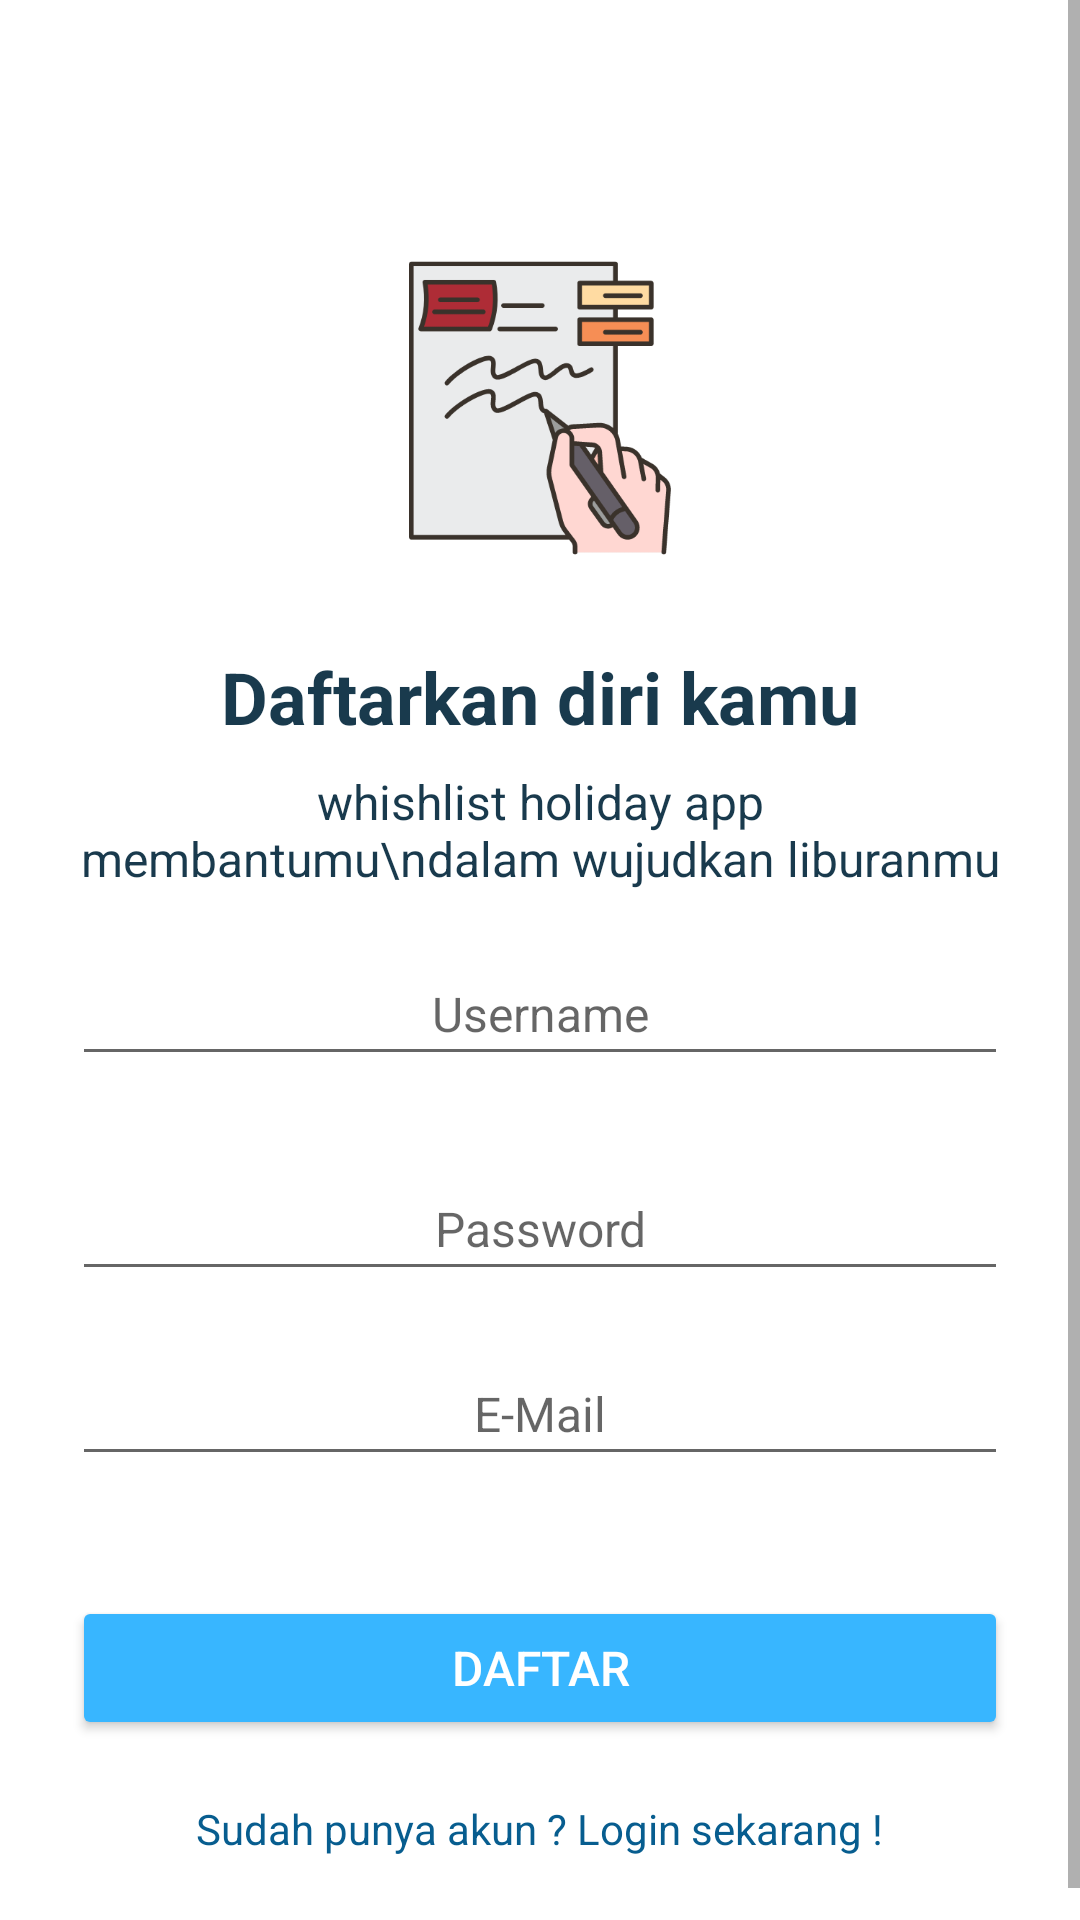

Named icons in this screenshot (1080×1920) and their centers, (x,y):
sign up: (540,408)
